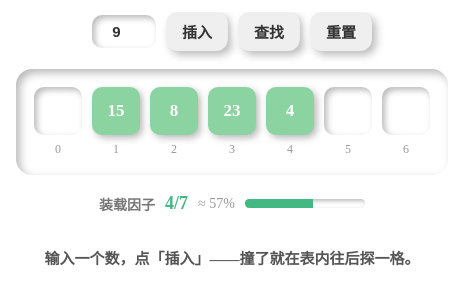
Test case: HashProbeViz 开放寻址互动 › TC-VIZ-PROBEVIZ-05 查找 8（命中）：status 含「命中」
The image size is (465, 284).
Replace the text in the number field named "值" with "8" at (124, 32), box [92,15,156,48]
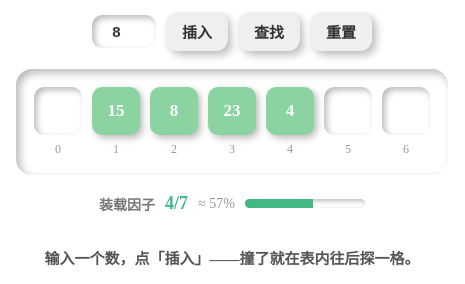
Click the button "查找" at (269, 32), box [238,12,300,51]
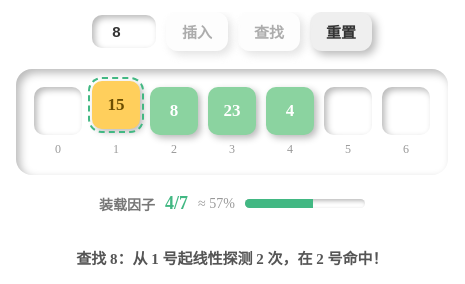
Result: the message with class "status" shows "命中" at [76,251,388,267]
